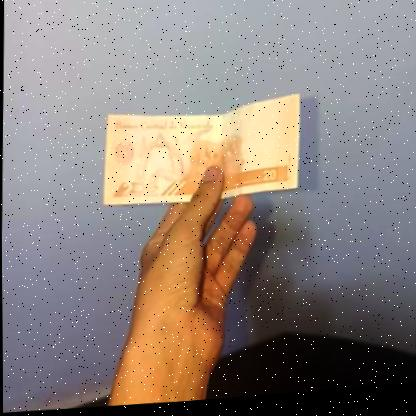twenty-back-vef: (101, 96, 300, 214)
